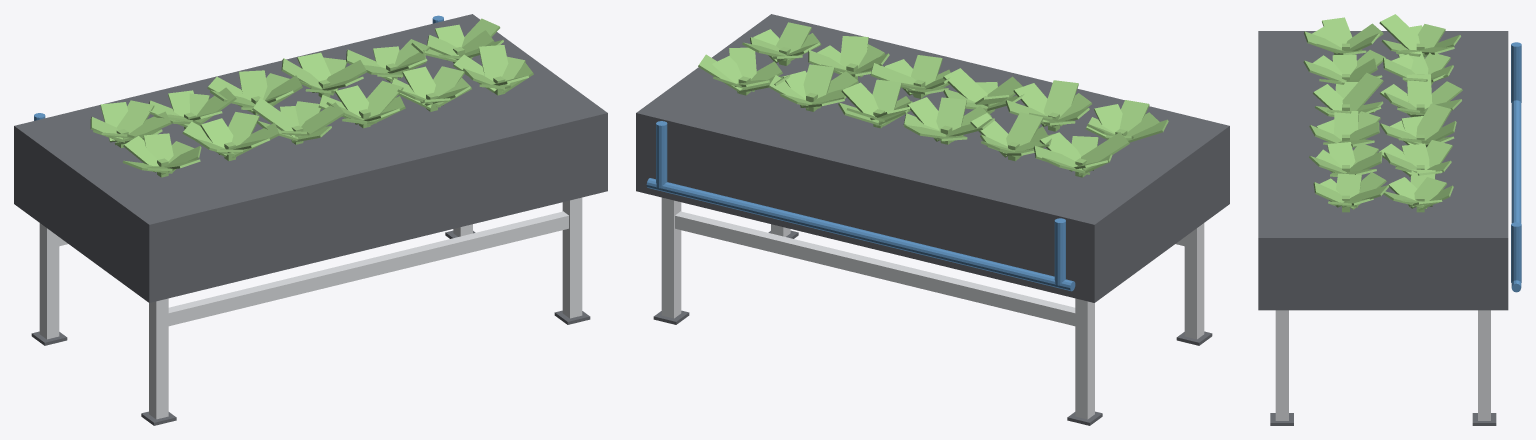
The model's file is vertical-farm-and-hydroponics-tower-vertical-farm-and--190f4dd3__38345.glb.
The picture shows the model from 3 angles, left to right: view 1: azimuth 30°, elevation 25°; view 2: azimuth 150°, elevation 25°; view 3: azimuth 270°, elevation 25°; orthographic projection. The views are drawn at different scales.
Visible parts, largest first — view 1: vertical-farm-and-hydroponics-tower-deep-water-culture-tray_ (×3); view 2: vertical-farm-and-hydroponics-tower-deep-water-culture-tray_ (×4); view 3: vertical-farm-and-hydroponics-tower-deep-water-culture-tray_ (×4).
Part boxes in pixels (bbox=[...]): vertical-farm-and-hydroponics-tower-deep-water-culture-tray_ (×3): bbox=[14, 14, 607, 425]; vertical-farm-and-hydroponics-tower-deep-water-culture-tray_ (×4): bbox=[636, 14, 1229, 425]; vertical-farm-and-hydroponics-tower-deep-water-culture-tray_ (×4): bbox=[1258, 14, 1521, 425].
Bounding box in the file's own units: 1.84 × 0.9314 × 0.9901.
